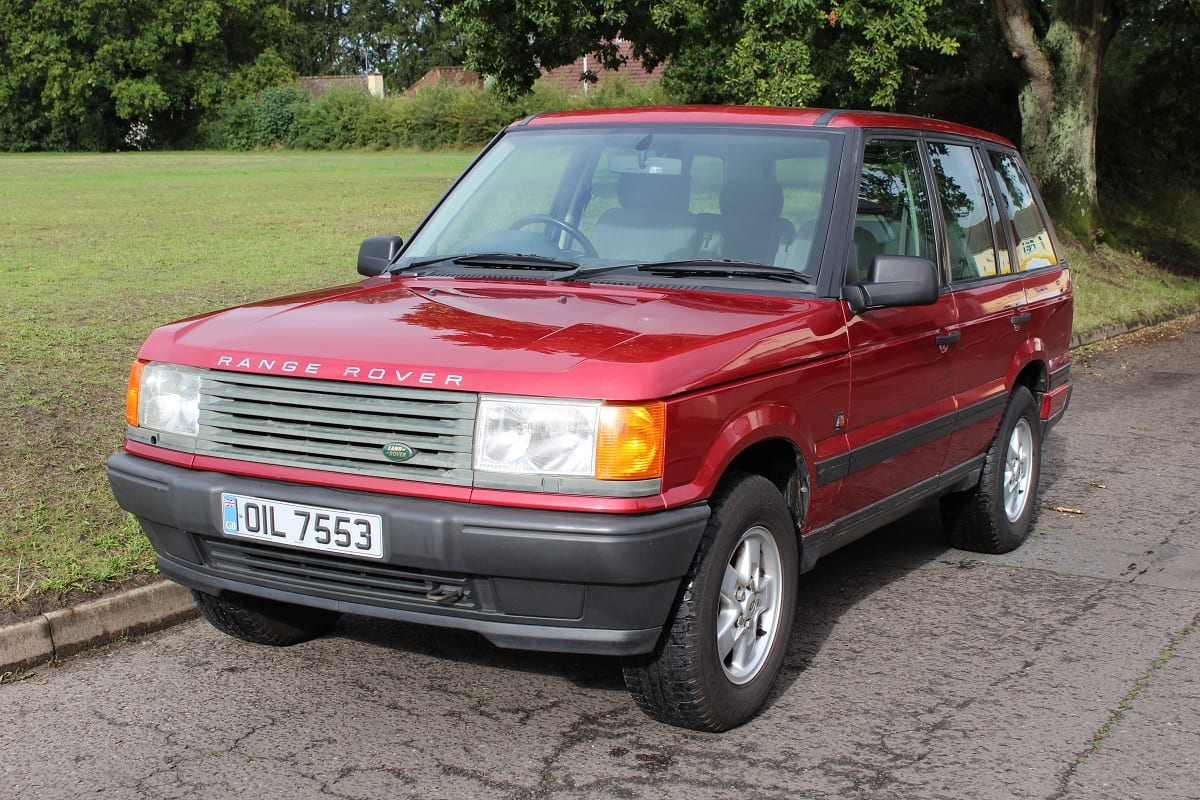car: (101, 97, 1081, 729)
